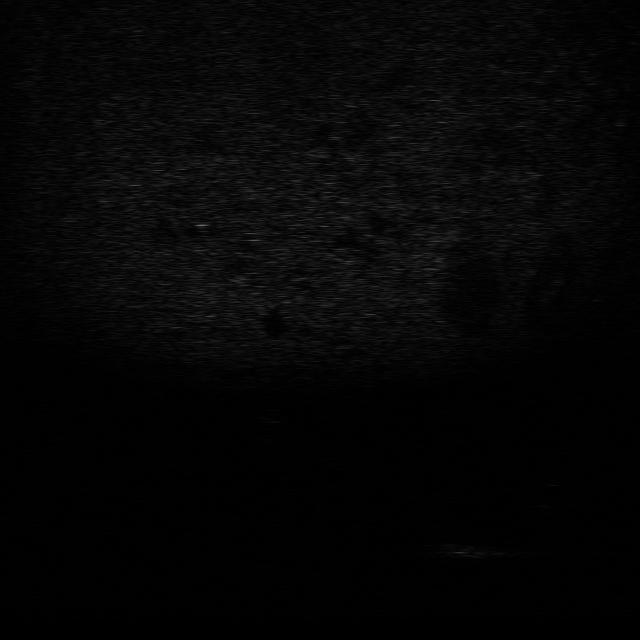ball: (252, 404, 290, 427)
metal bucket: (422, 539, 518, 565)
tyre: (522, 480, 576, 510)
